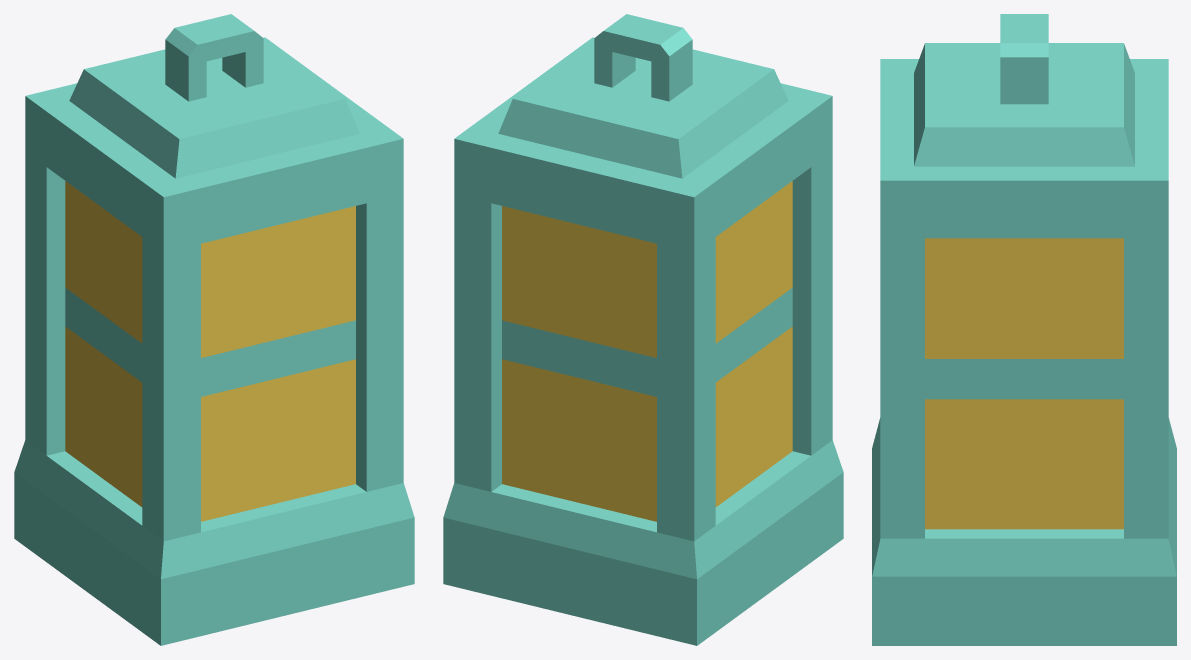
The model's file is lanternglass.glb.
3 views of the same model, side by side, from view 1: azimuth 30°, elevation 25°; view 2: azimuth 150°, elevation 25°; view 3: azimuth 270°, elevation 25° (orthographic). The views are drawn at different scales.
Parts seen in each view (by area): view 1: lanternGlass; view 2: lanternGlass; view 3: lanternGlass.
Part boxes in pixels (x1=…): lanternGlass: x1=14, y1=14, x2=414, y2=645; lanternGlass: x1=443, y1=14, x2=843, y2=645; lanternGlass: x1=872, y1=14, x2=1176, y2=645.
Size of the model in its own units: 0.1459 by 0.2923 by 0.1459.
